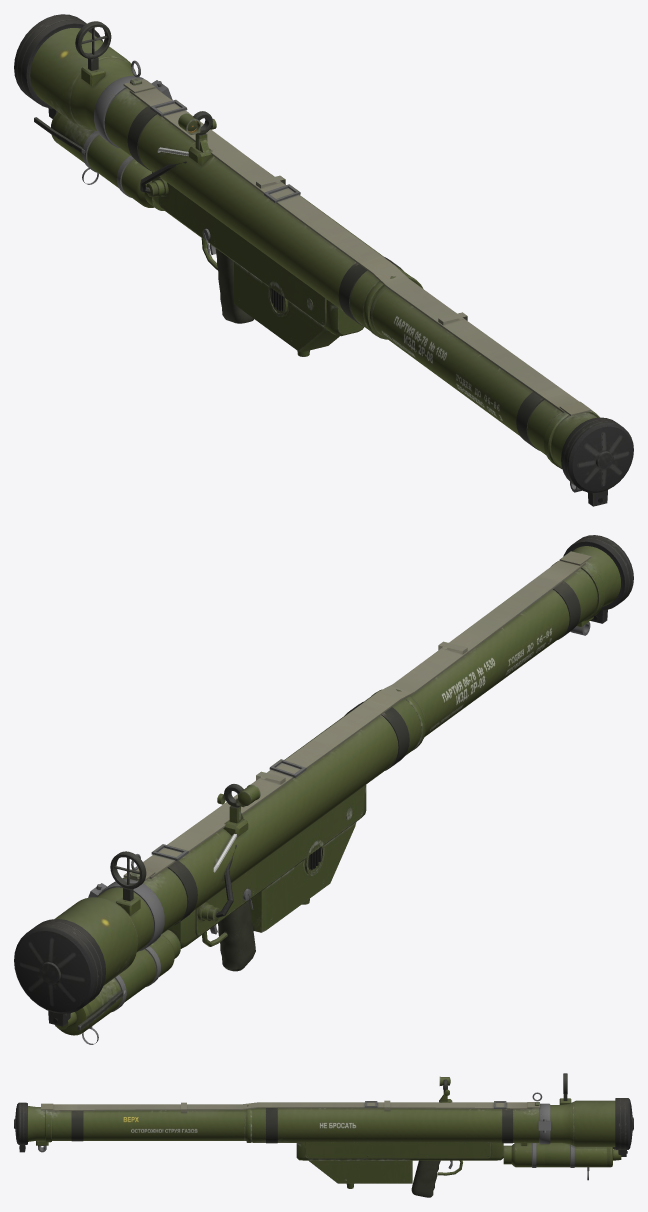
The model's file is mp_strela2.glb.
3 views of the same model, one above another, from view 1: azimuth 30°, elevation 25°; view 2: azimuth 150°, elevation 25°; view 3: azimuth 270°, elevation 25° (orthographic). The views are drawn at different scales.
Parts seen in each view (by area): view 1: tube, grip, strap, cap_r, nip, sight, cap_f; view 2: tube, grip, strap, cap_f, nip, sight, cap_r; view 3: tube, grip, strap, nip, cap_f, cap_r, sight.
Boxes of the visible parts, x1,y1,x2,y2 form: tube: (30, 28, 599, 492); grip: (140, 147, 363, 356); strap: (123, 79, 591, 415); cap_r: (561, 417, 633, 506); nip: (34, 112, 164, 210); sight: (75, 21, 216, 166); cap_f: (14, 14, 102, 118); tube: (54, 546, 620, 985); grip: (168, 785, 366, 971); strap: (123, 551, 591, 881); cap_f: (14, 919, 105, 1026); nip: (55, 930, 180, 1044); sight: (110, 784, 260, 915); cap_r: (563, 535, 633, 623); tube: (28, 1092, 615, 1152); grip: (296, 1142, 503, 1197); strap: (41, 1100, 539, 1112); nip: (503, 1143, 621, 1180); cap_f: (615, 1098, 633, 1156); cap_r: (14, 1102, 27, 1152); sight: (439, 1073, 571, 1104).
Size of the model in its own units: 0.135 by 0.3125 by 1.5.
Materials: 1 (1 with a texture image).
